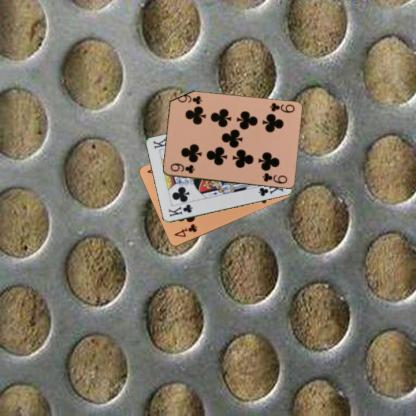4c: (172, 221, 198, 239)
9c: (167, 161, 196, 175), (267, 101, 296, 115)
Kc: (166, 202, 193, 218)
